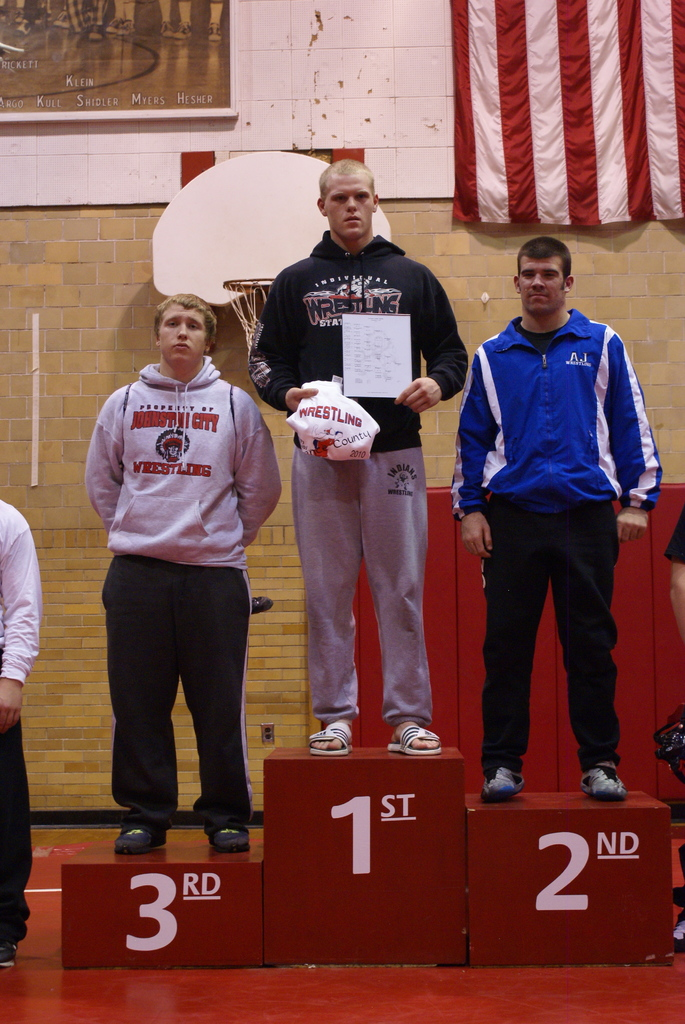Person: (249, 161, 469, 747), (448, 235, 666, 803), (79, 286, 283, 859), (0, 497, 46, 967), (667, 507, 685, 954)
